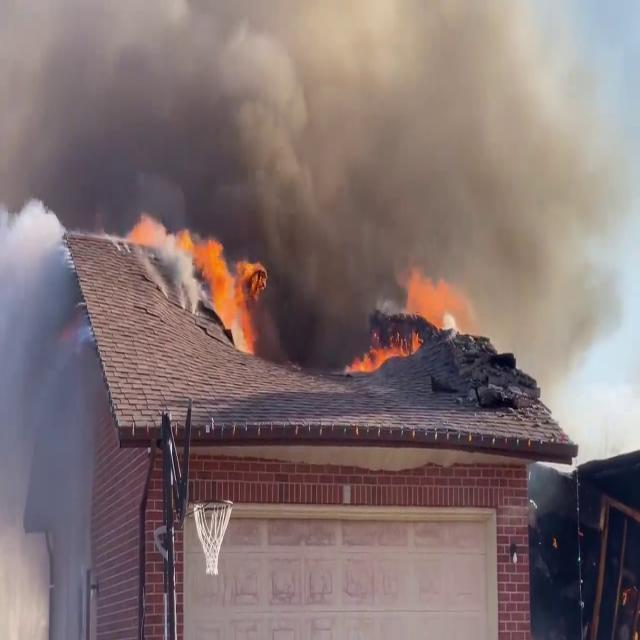Fire: (192, 230, 270, 356), (400, 262, 468, 342), (348, 332, 420, 374)
Smoke: (5, 0, 638, 345), (0, 2, 107, 638)
